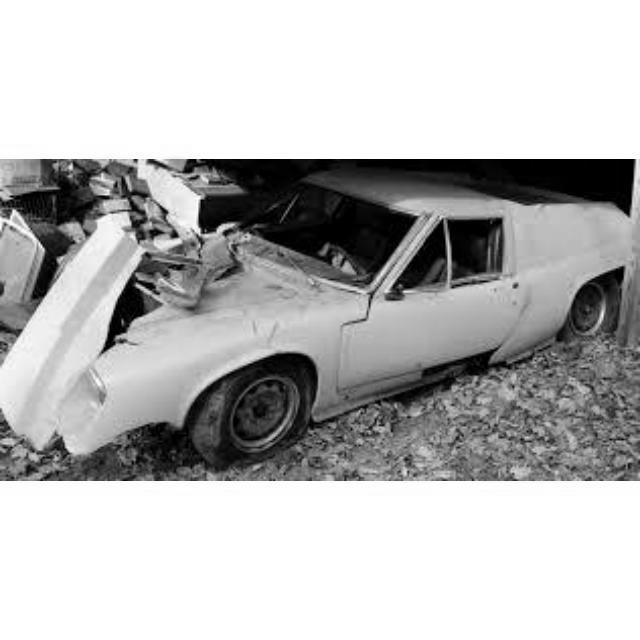Front-windscreen-damage: (274, 182, 409, 273)
Headlight-damage: (49, 354, 142, 428)
bonnet-dent: (116, 226, 298, 319)
doorouter-dent: (428, 223, 531, 352)
